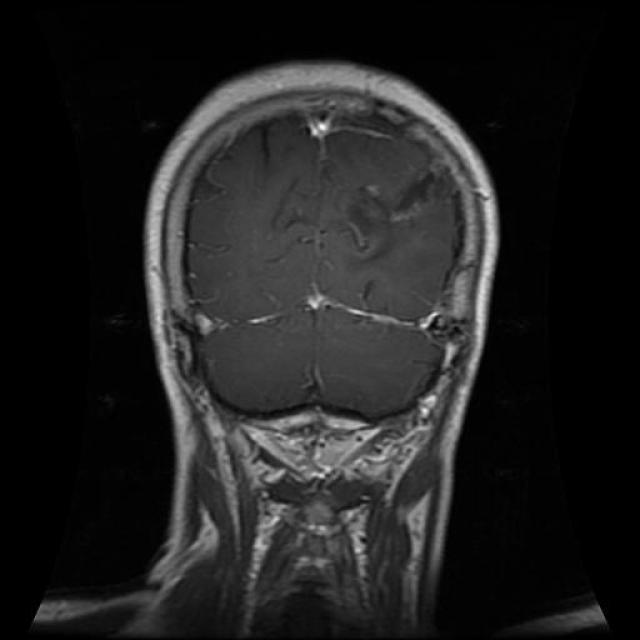glioma: (338, 182, 394, 272)
